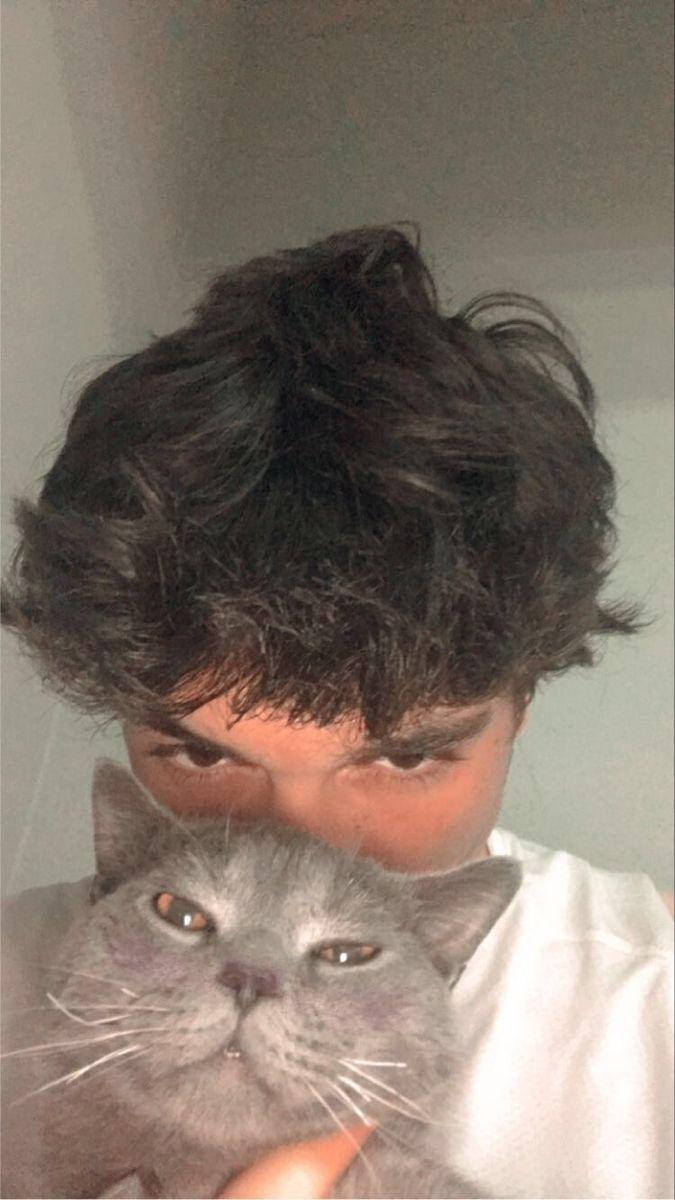kedo: (37, 760, 526, 1200)
